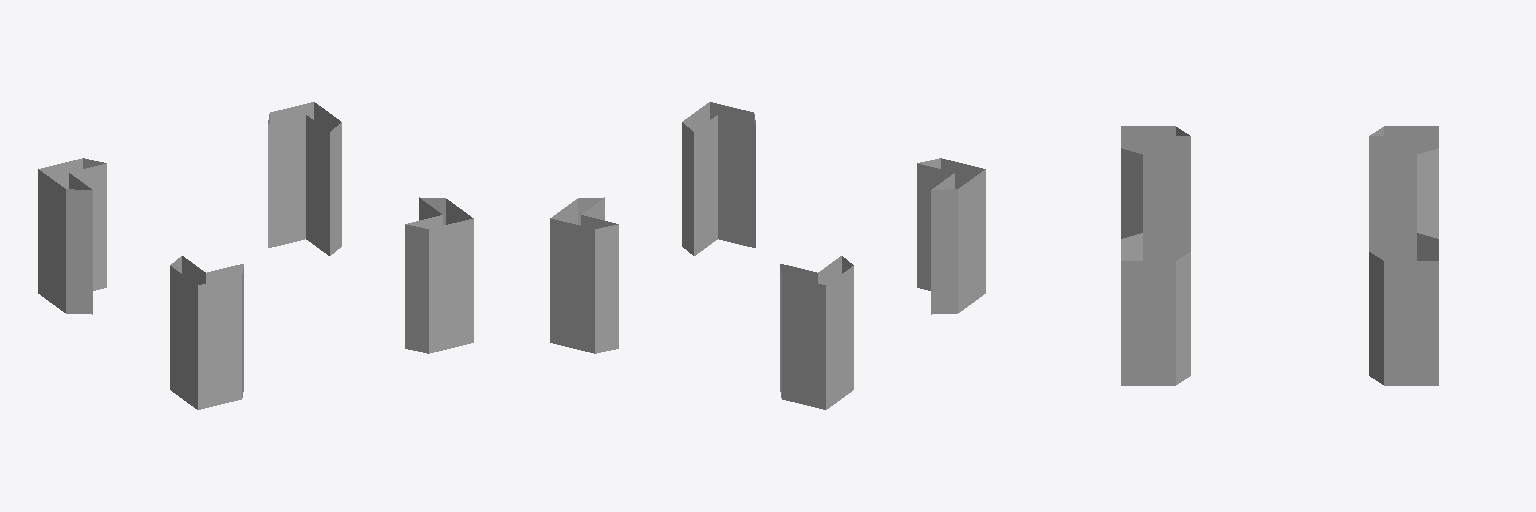
File: pernas.obj
3 views of the same model, side by side, from view 1: azimuth 30°, elevation 25°; view 2: azimuth 150°, elevation 25°; view 3: azimuth 270°, elevation 25° (orthographic).
Visible parts, largest first — view 1: Cube.001; view 2: Cube.001; view 3: Cube.001.
Boxes of the visible parts, x1=… form: Cube.001: x1=38, y1=102, x2=473, y2=409; Cube.001: x1=550, y1=102, x2=985, y2=409; Cube.001: x1=1121, y1=126, x2=1438, y2=385.
Size of the model in its own units: 18.5 by 7.98 by 18.5.